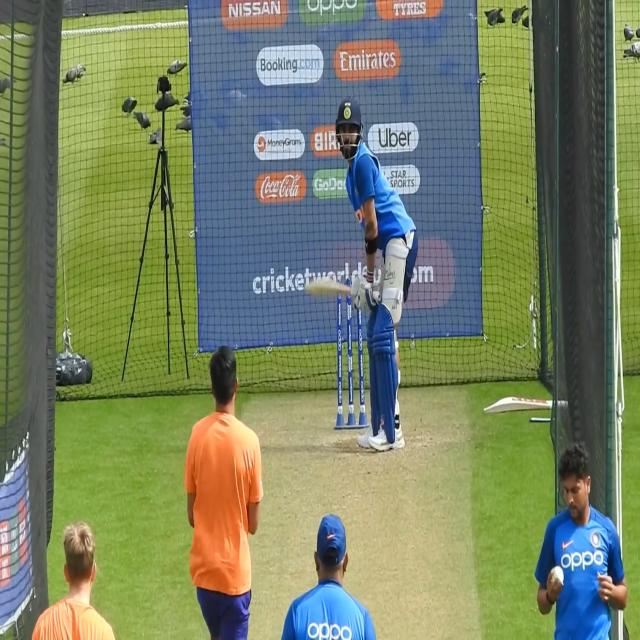stump: (337, 300, 366, 429)
